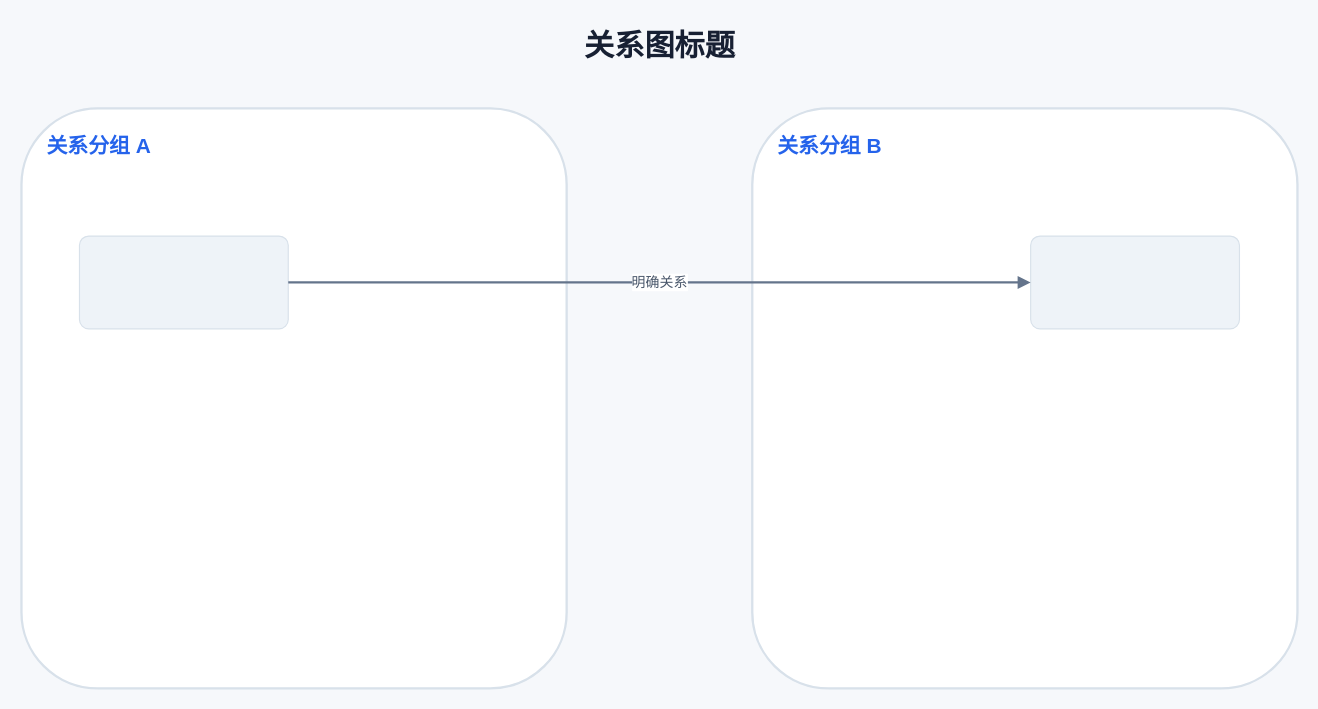
The diagram is 1318 pixels wide and 709 high, and some of its shapes have lost their labels. The shapes that lost their labels are listed below. From the top down, each one's centre as x and y in pixels, then its label:
(x=183, y=282): 实体 A
(x=1134, y=282): 实体 B
